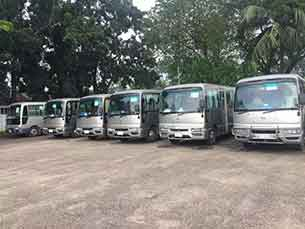minibus: (231, 73, 305, 149), (157, 82, 232, 145), (106, 89, 159, 142), (73, 93, 109, 139), (40, 98, 79, 137), (6, 102, 44, 137)
